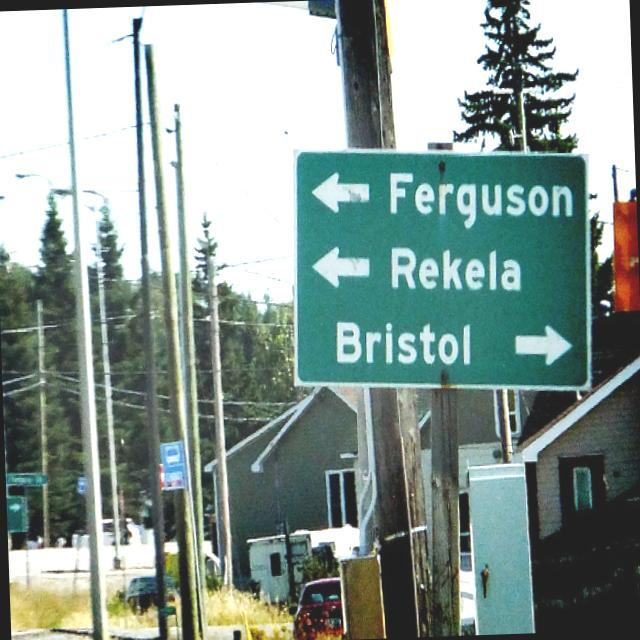Vehicle: (246, 528, 362, 601), (287, 576, 343, 640), (70, 516, 144, 549), (123, 574, 156, 612)
